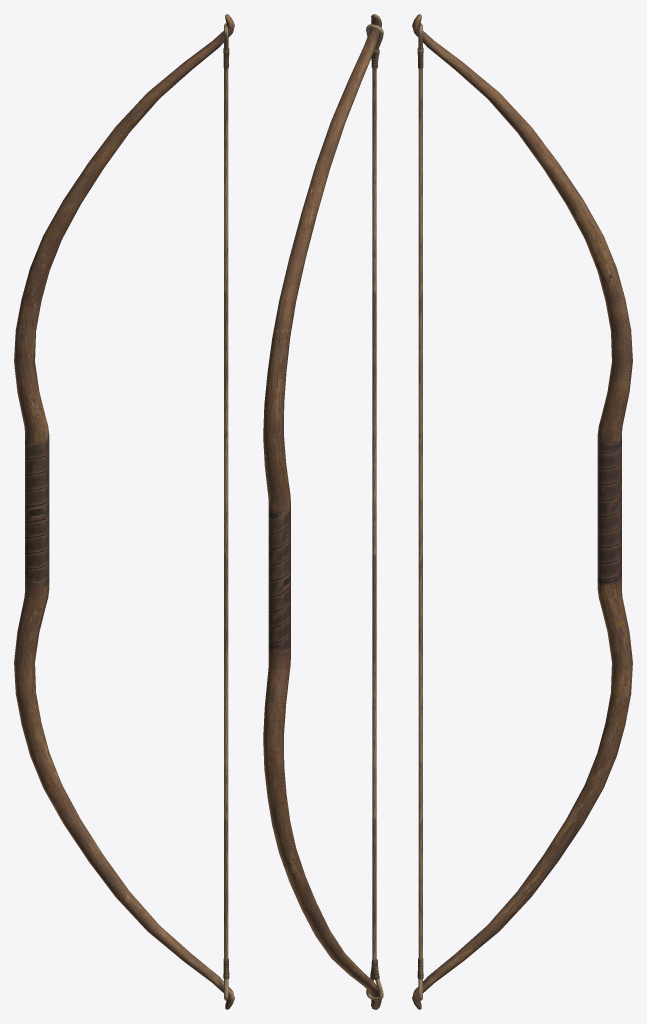
Rendered from Bow_01.fbx.
3 renders of one model, left to right at view 1: azimuth 90°, elevation 25°; view 2: azimuth 150°, elevation 25°; view 3: azimuth 270°, elevation 25°, orthographic.
Parts seen in each view (by area): view 1: Bow_01_LOD0; view 2: Bow_01_LOD0; view 3: Bow_01_LOD0.
Boxes of the visible parts, <box> form: Bow_01_LOD0: <box>14,14,234,1009</box>; Bow_01_LOD0: <box>263,14,383,1009</box>; Bow_01_LOD0: <box>412,14,632,1009</box>.
Size of what is drawn, in the model's own units: 2.25 by 116 by 23.43.
